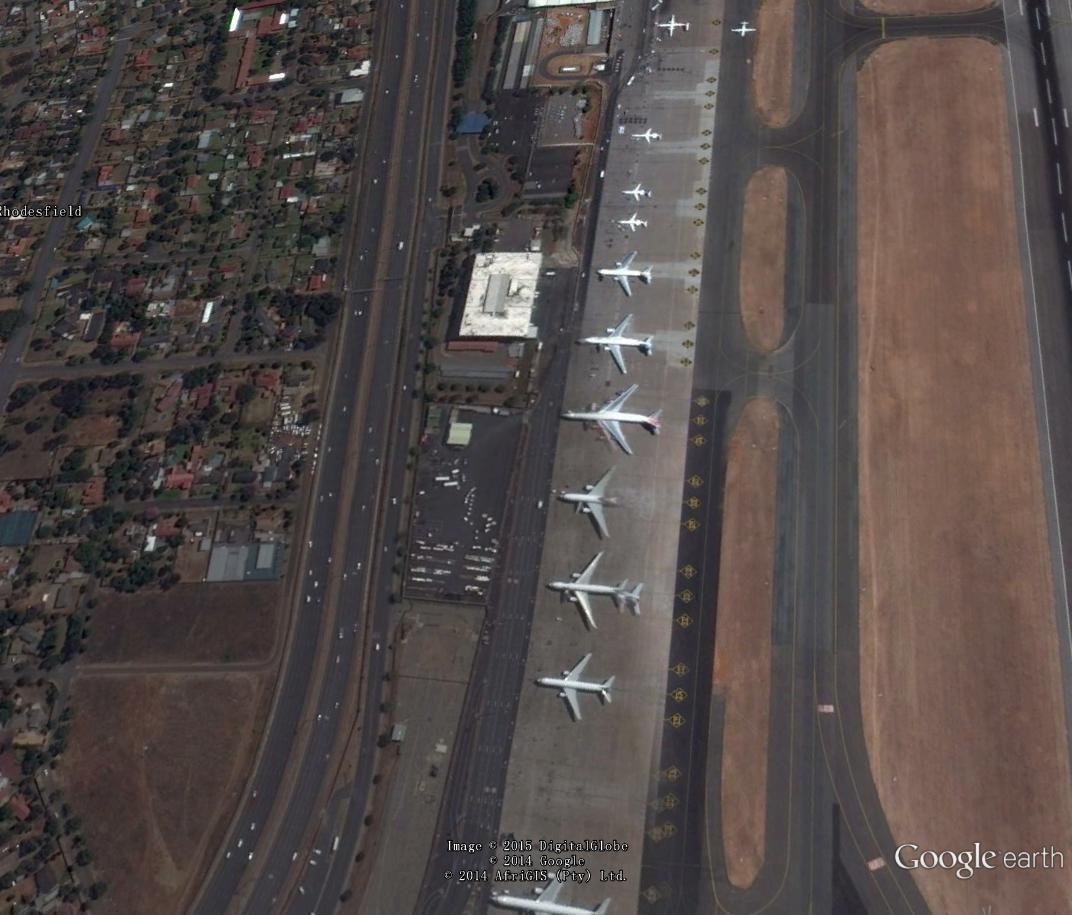aircraft: (549, 550, 646, 633), (564, 378, 666, 456), (531, 652, 618, 723), (559, 460, 624, 543), (576, 310, 655, 376), (595, 247, 657, 300), (652, 9, 696, 42), (628, 121, 666, 148), (615, 210, 654, 235), (622, 181, 658, 207), (726, 15, 763, 40)
